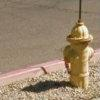Hydrant: (56, 14, 98, 92)
